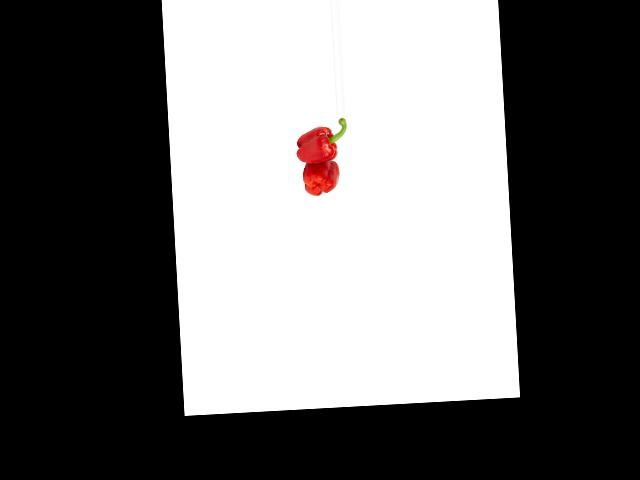bell_pepper: (300, 160, 342, 196)
